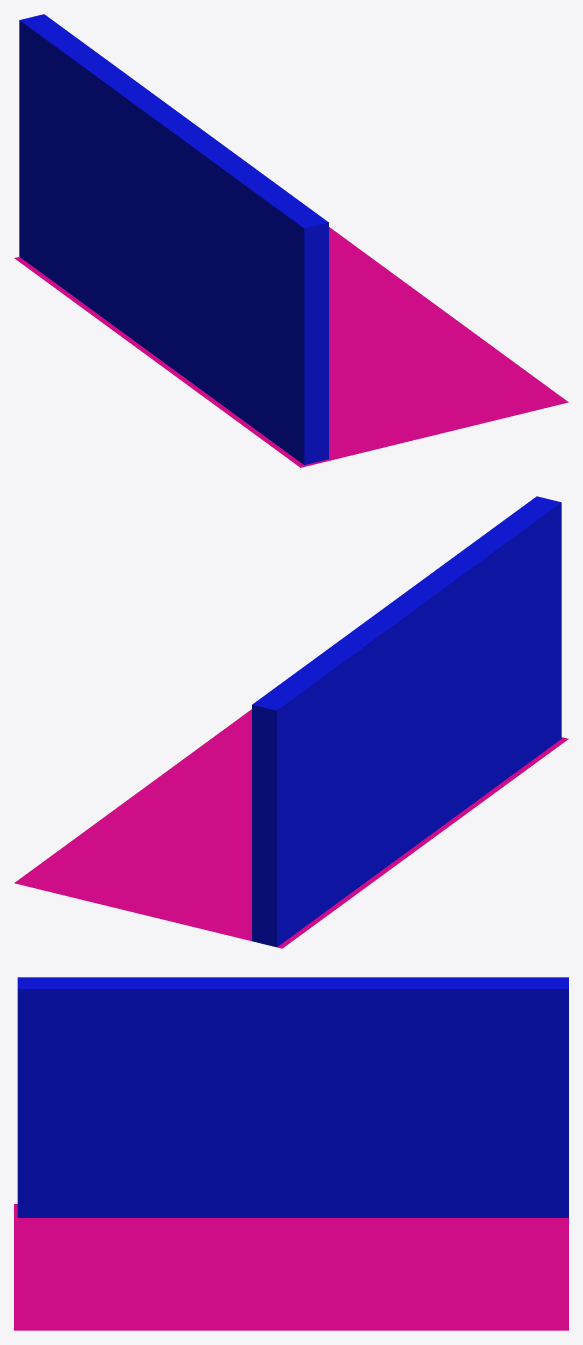
Rendered from testmap.gltf.
3 views of the same model, one above another, from view 1: azimuth 30°, elevation 25°; view 2: azimuth 150°, elevation 25°; view 3: azimuth 270°, elevation 25° (orthographic). The views are drawn at different scales.
Parts seen in each view (by area): view 1: 立方体, 平面; view 2: 立方体, 平面; view 3: 立方体, 平面.
Part boxes in pixels (x1,y1,x2,y2): 立方体: (19, 14, 328, 464); 平面: (14, 227, 568, 467); 立方体: (252, 496, 561, 947); 平面: (14, 709, 568, 948); 立方体: (17, 977, 568, 1217); 平面: (14, 1204, 568, 1330).
Bounding box in the file's own units: 21.68 × 18.27 × 40.1.
